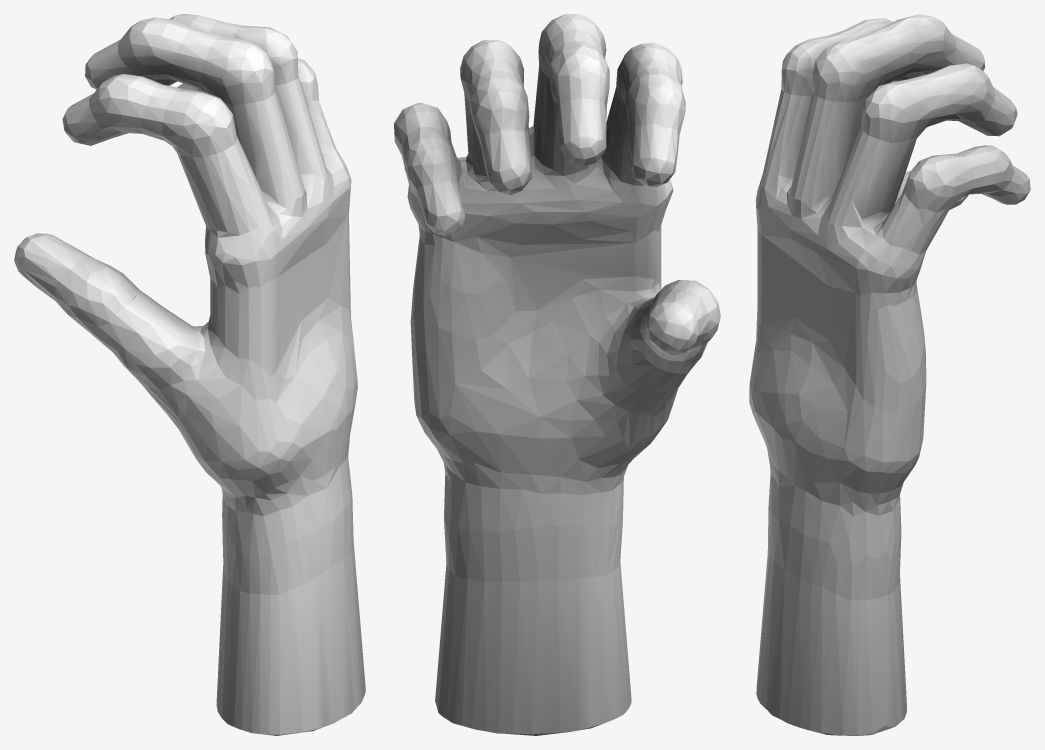
The model's file is main.dae.
The picture shows the model from 3 angles, left to right: view 1: azimuth 30°, elevation 25°; view 2: azimuth 150°, elevation 25°; view 3: azimuth 270°, elevation 25°; orthographic projection. The views are drawn at different scales.
Visible parts, largest first — view 1: main; view 2: main; view 3: main.
Boxes of the visible parts, box(x1,y1,x2,y2) form: main: box(14, 14, 365, 735); main: box(394, 14, 720, 735); main: box(749, 14, 1030, 735).
Size of what is drawn, in the model's own units: 112 by 242 by 95.69.
Materials: 1 (1 with a texture image).
